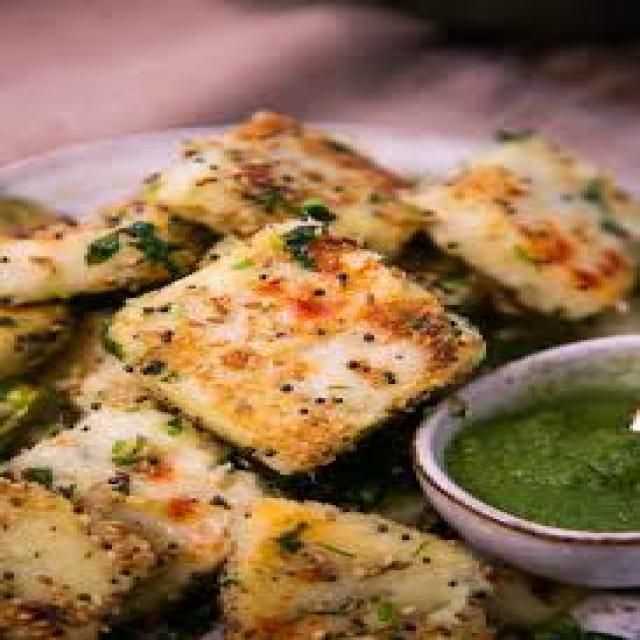DHOKLA: (108, 221, 483, 472), (409, 137, 637, 317), (224, 496, 507, 638)
